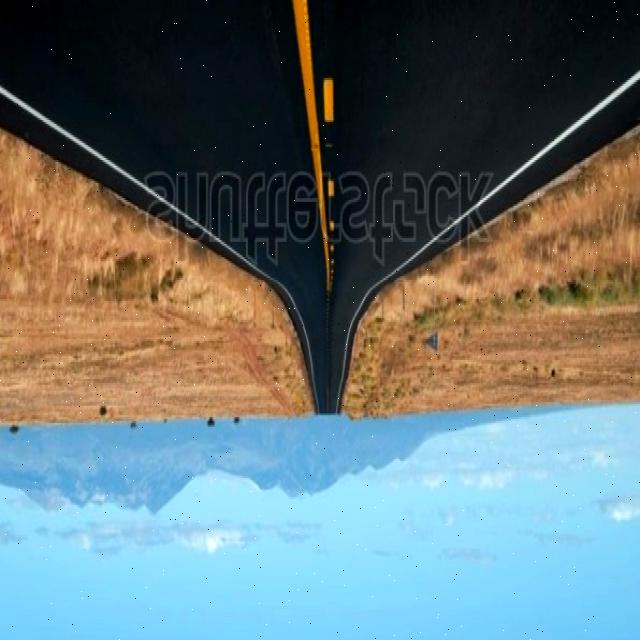lane: (292, 2, 330, 297), (292, 2, 330, 295)
road: (0, 4, 639, 413)
